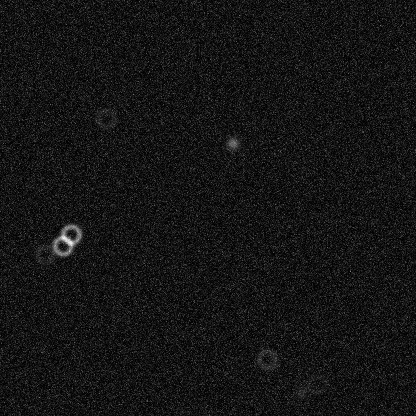Ring: (33, 242, 57, 266), (50, 233, 74, 257), (304, 371, 328, 395), (59, 222, 83, 246), (93, 106, 117, 130), (255, 346, 279, 370)
Spot: (224, 135, 240, 151), (293, 384, 309, 400)
